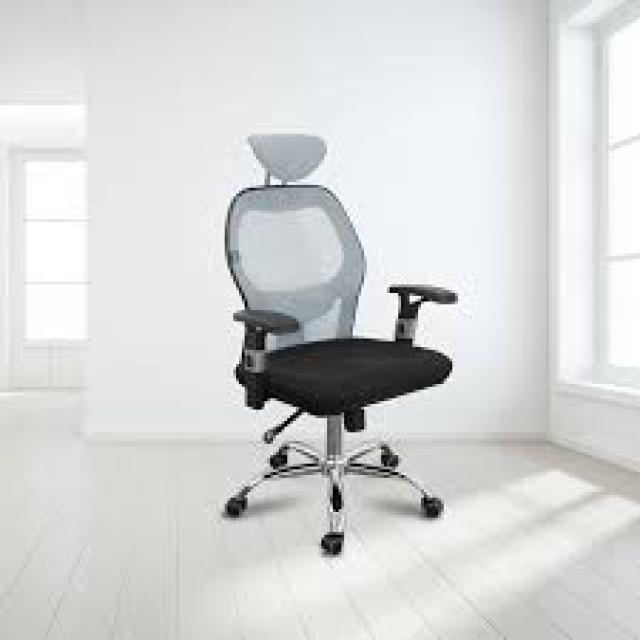chair: (118, 110, 566, 607)
